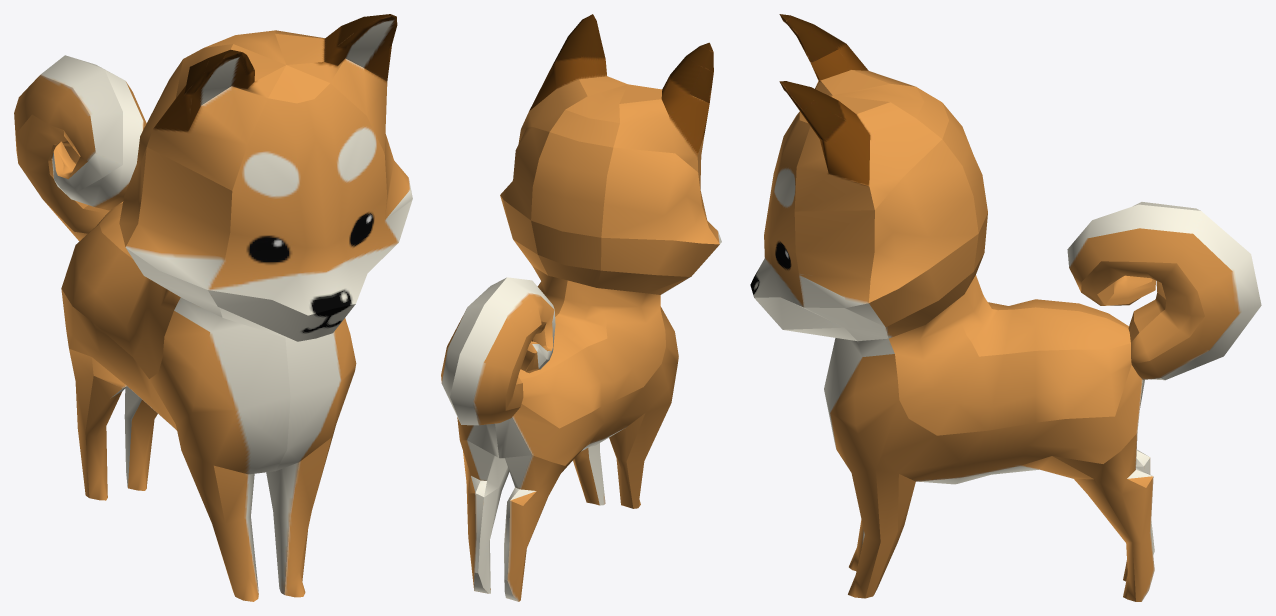
The model's file is tailWagging_frame20.obj.
3 renders of one model, left to right at view 1: azimuth 30°, elevation 25°; view 2: azimuth 150°, elevation 25°; view 3: azimuth 270°, elevation 25°, orthographic. The views are drawn at different scales.
Parts seen in each view (by area): view 1: newRigging:BodzL1; view 2: newRigging:BodzL1; view 3: newRigging:BodzL1.
Part boxes in pixels (<box>): newRigging:BodzL1: <box>14,14,412,601</box>; newRigging:BodzL1: <box>441,14,721,601</box>; newRigging:BodzL1: <box>750,14,1261,601</box>.
Size of the model in its own units: 3.91 by 7.95 by 6.81.
1 material, 1 textured.
